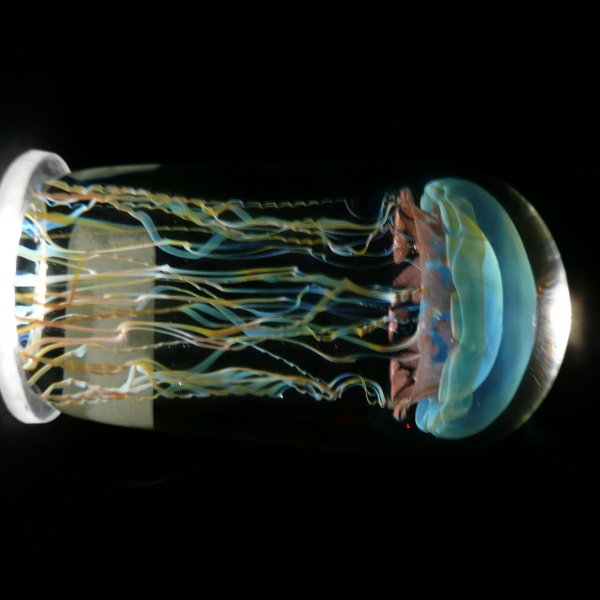Jellyfish: (12, 169, 572, 441)
